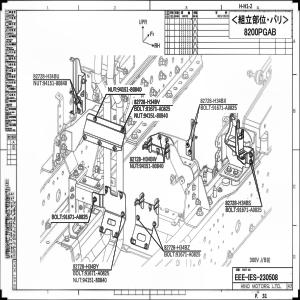PartNumber: (32, 73, 59, 80), (84, 270, 110, 277), (144, 112, 168, 119), (129, 156, 157, 162), (140, 163, 164, 170), (43, 80, 67, 87), (238, 207, 262, 214), (73, 263, 100, 269), (163, 244, 190, 250), (117, 86, 143, 92), (134, 99, 160, 105), (146, 106, 172, 112), (200, 97, 226, 103), (225, 199, 251, 205), (212, 105, 237, 111), (63, 214, 88, 220), (82, 277, 107, 283), (176, 252, 201, 257)
